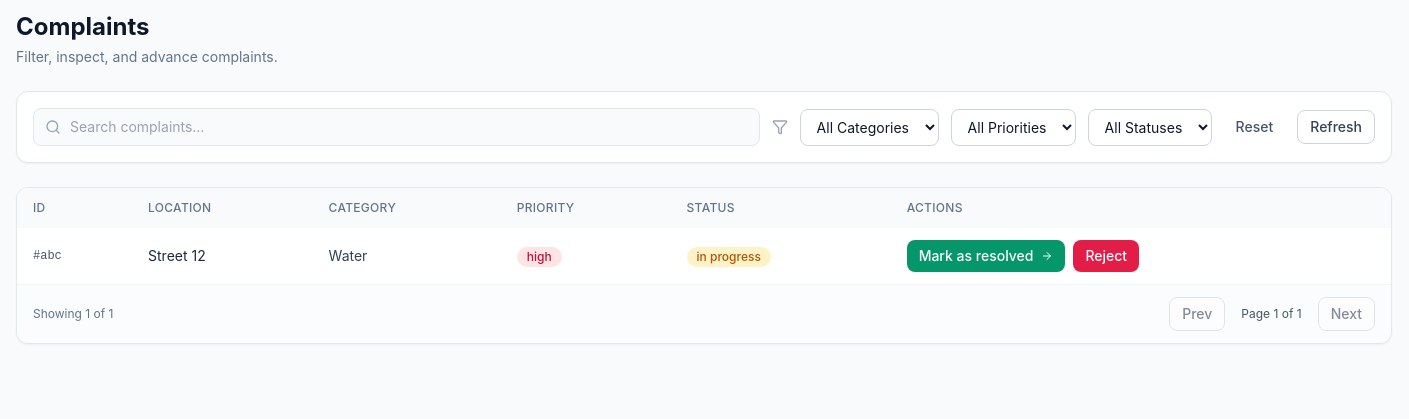
Test case: Complaints view › surfaces server 409 message verbatim
Expected: the text "Street 12" is shown, x1=132 y1=228 x2=312 y2=284
Click the button "Mark as resolved" at (986, 256), box x1=907 y1=240 x2=1065 y2=272
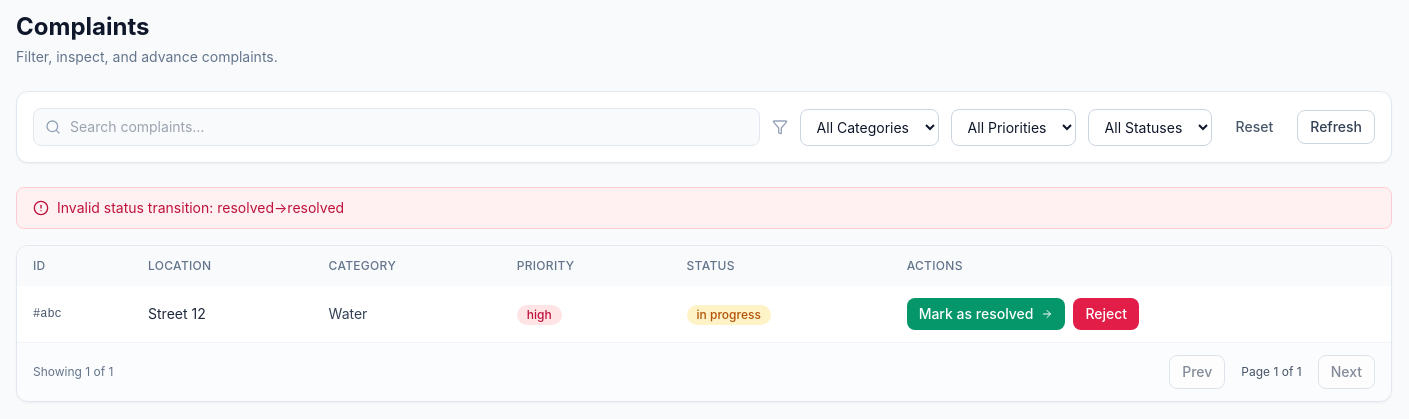
Result: the text "Invalid status transition: resolved->resolved" is shown at x1=16 y1=187 x2=1392 y2=229
